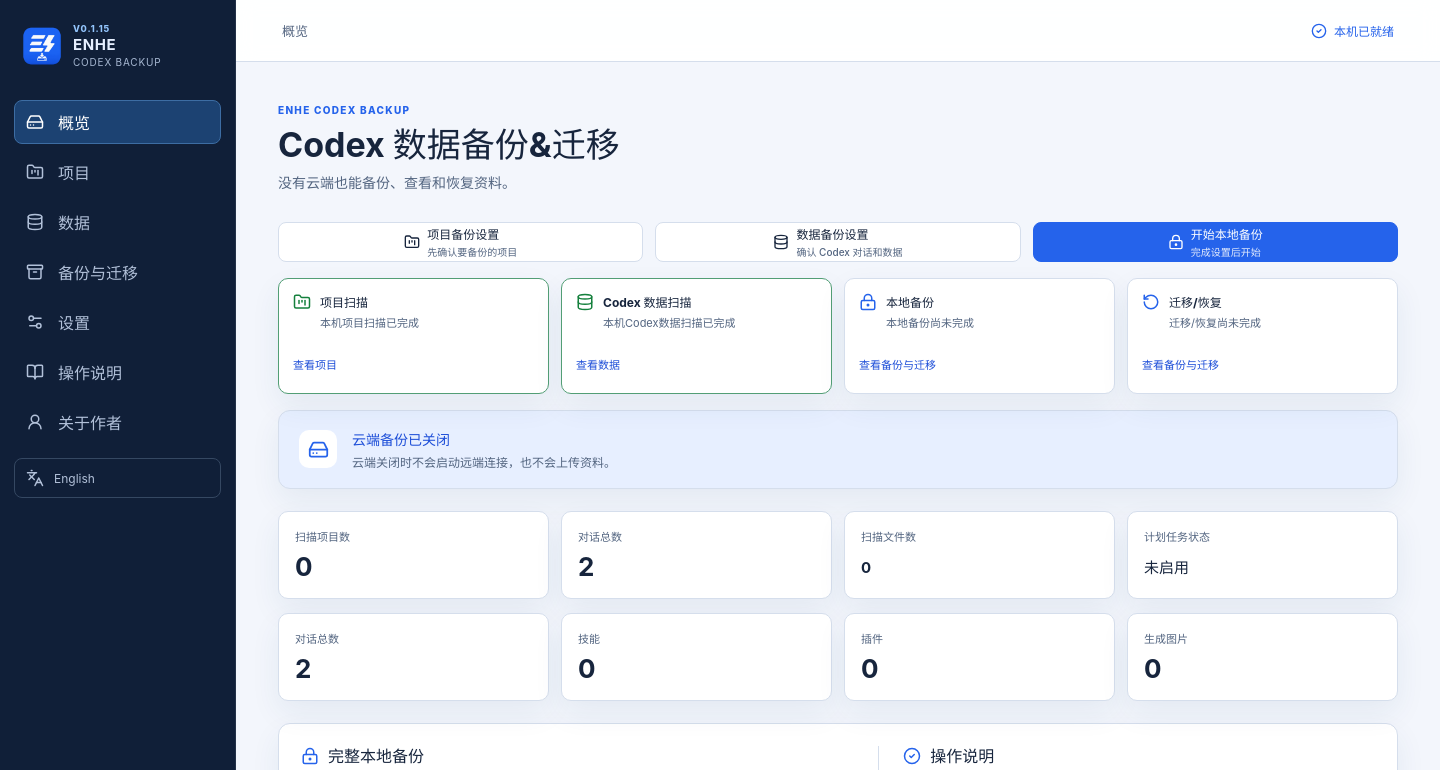
Test: ENHE Codex Backup shell › preserves an explicitly empty selection after restart and backs up only Codex data
Click the button with aria-label "前往项目" at (118, 172), box [14, 150, 221, 194]
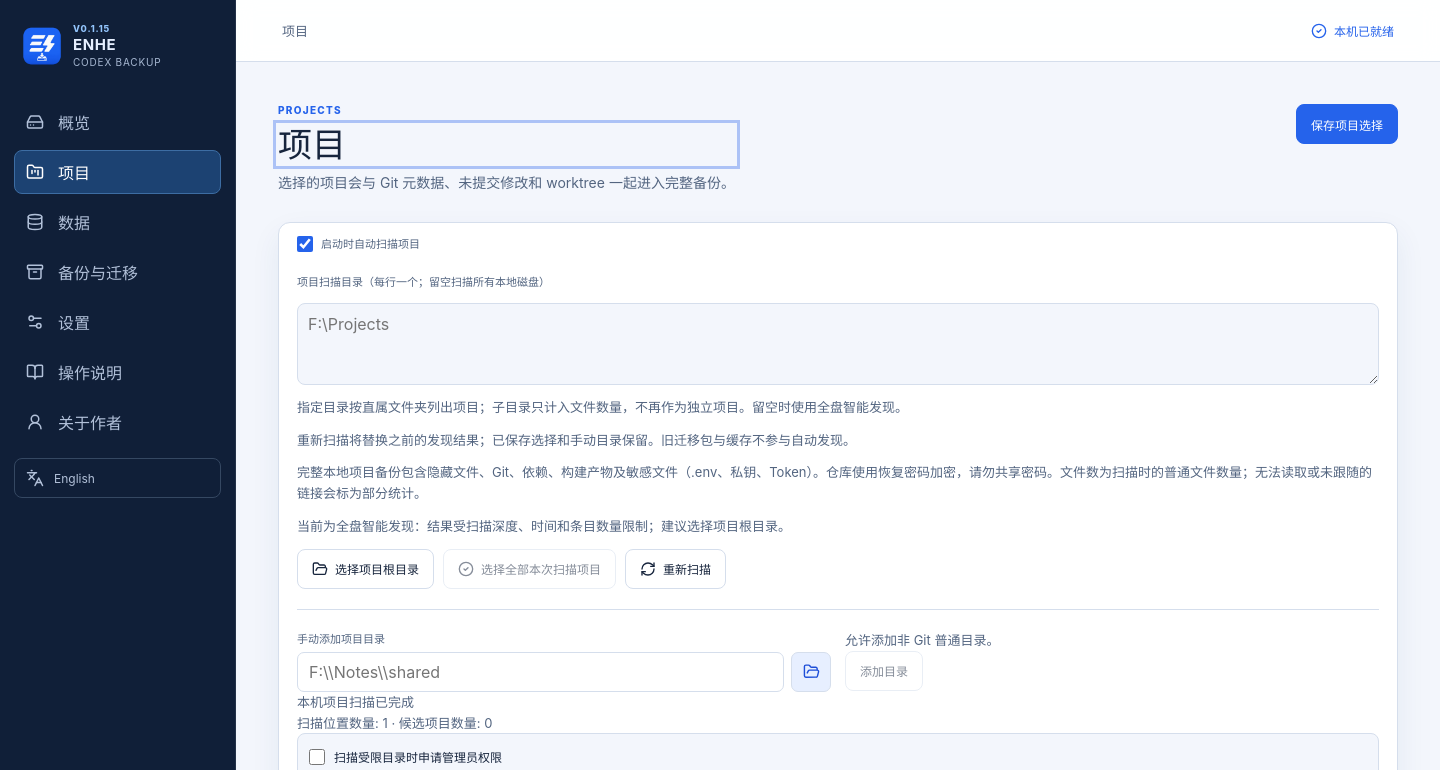
Click the button with aria-label "前往备份与迁移" at (118, 272), box [14, 250, 221, 294]
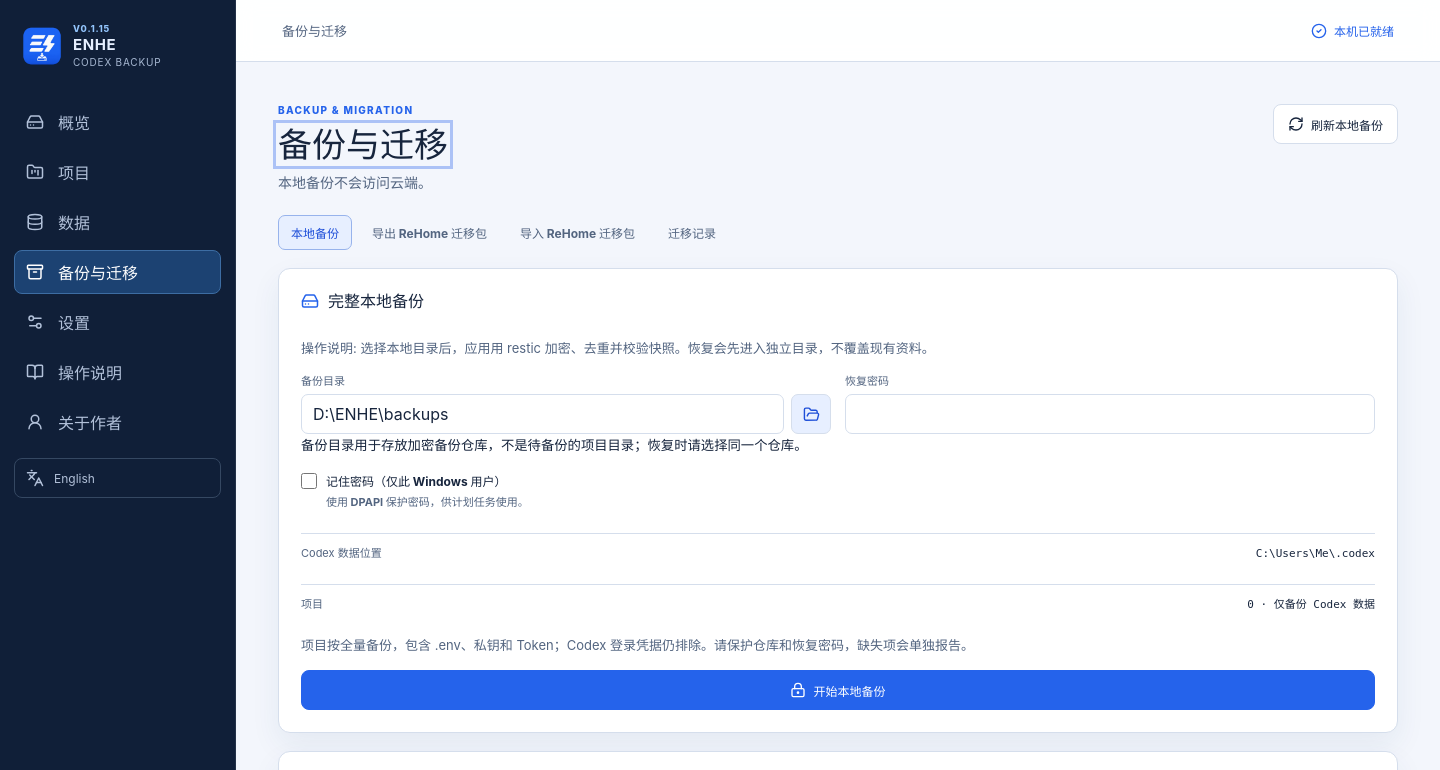
Type "synthetic-password" into the password field labelled "恢复密码" at (1110, 414), box [845, 394, 1375, 434]
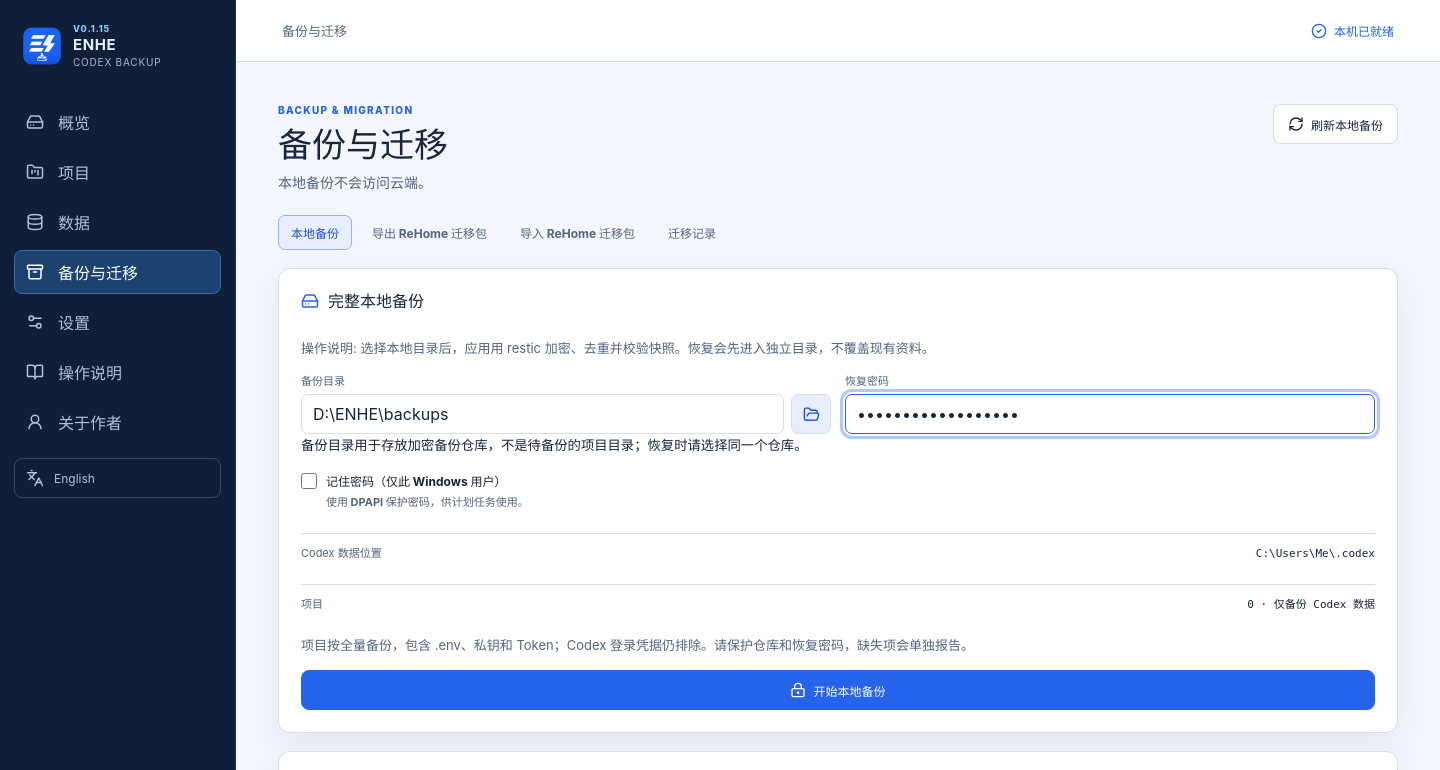
Click the button "开始本地备份" at (838, 690), box [301, 670, 1375, 710]
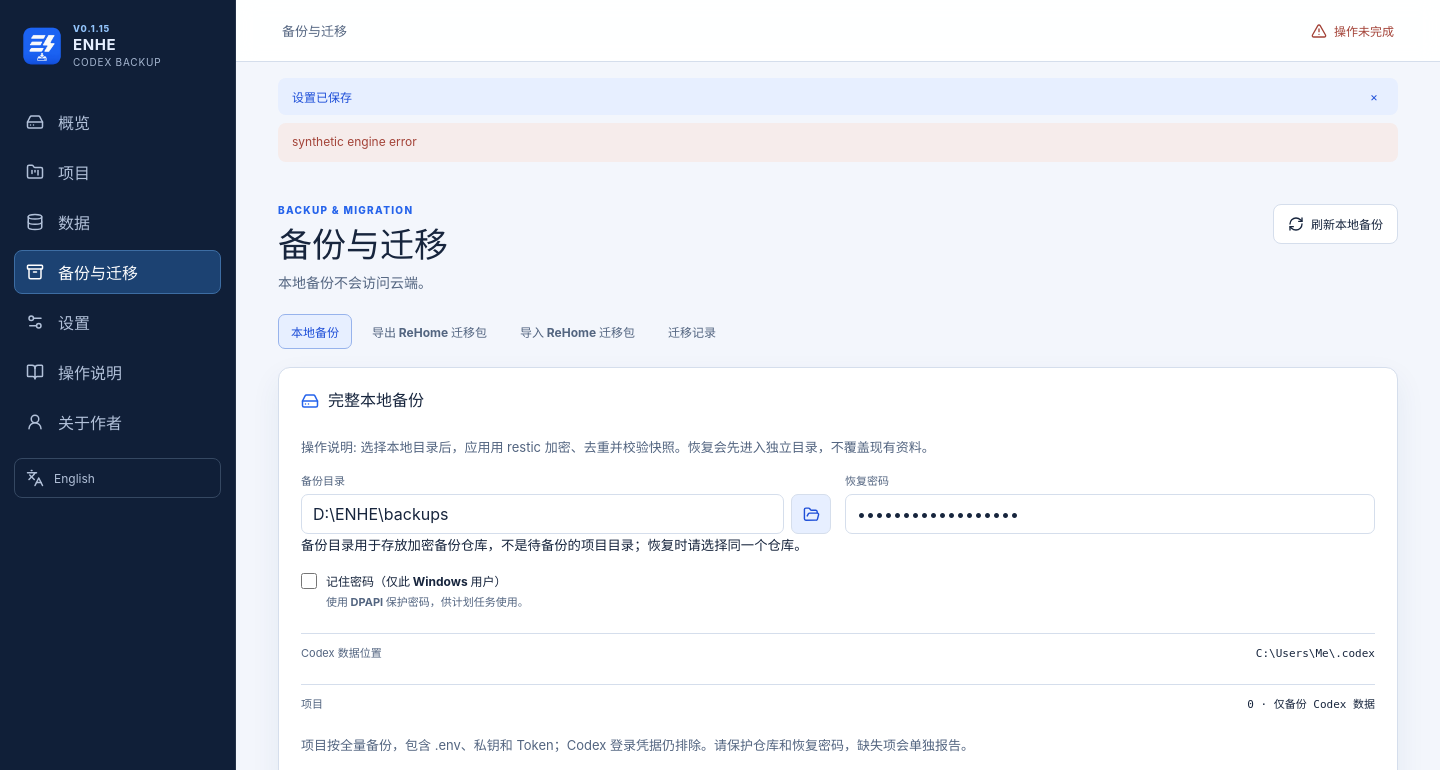
Now the text "synthetic engine error" is shown, box [292, 133, 417, 152]
